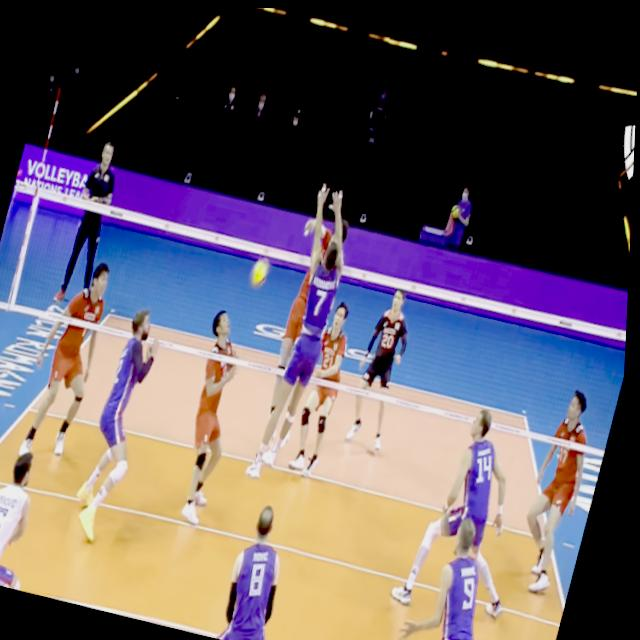player: (396, 394, 553, 626), (251, 179, 365, 482), (73, 306, 171, 549), (19, 252, 124, 468), (163, 305, 261, 532), (514, 385, 606, 595), (393, 507, 523, 640), (343, 276, 426, 455), (290, 292, 369, 477), (219, 495, 310, 640), (0, 445, 59, 591)
